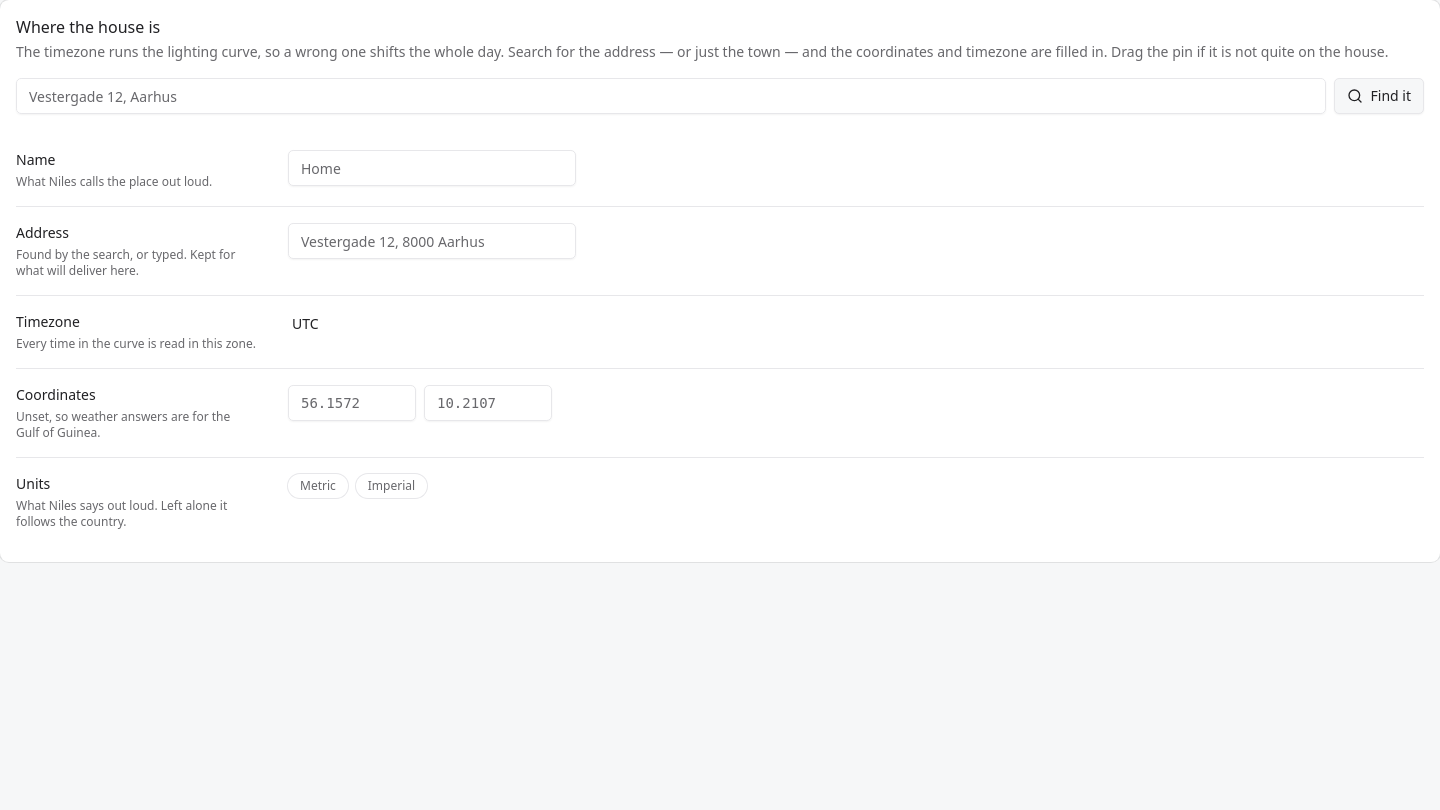
Test: HomeCard › says nothing matched rather than looking broken
In the field named "Address or town": (671, 96) [16,78,1326,114], type "Nowhereshire"
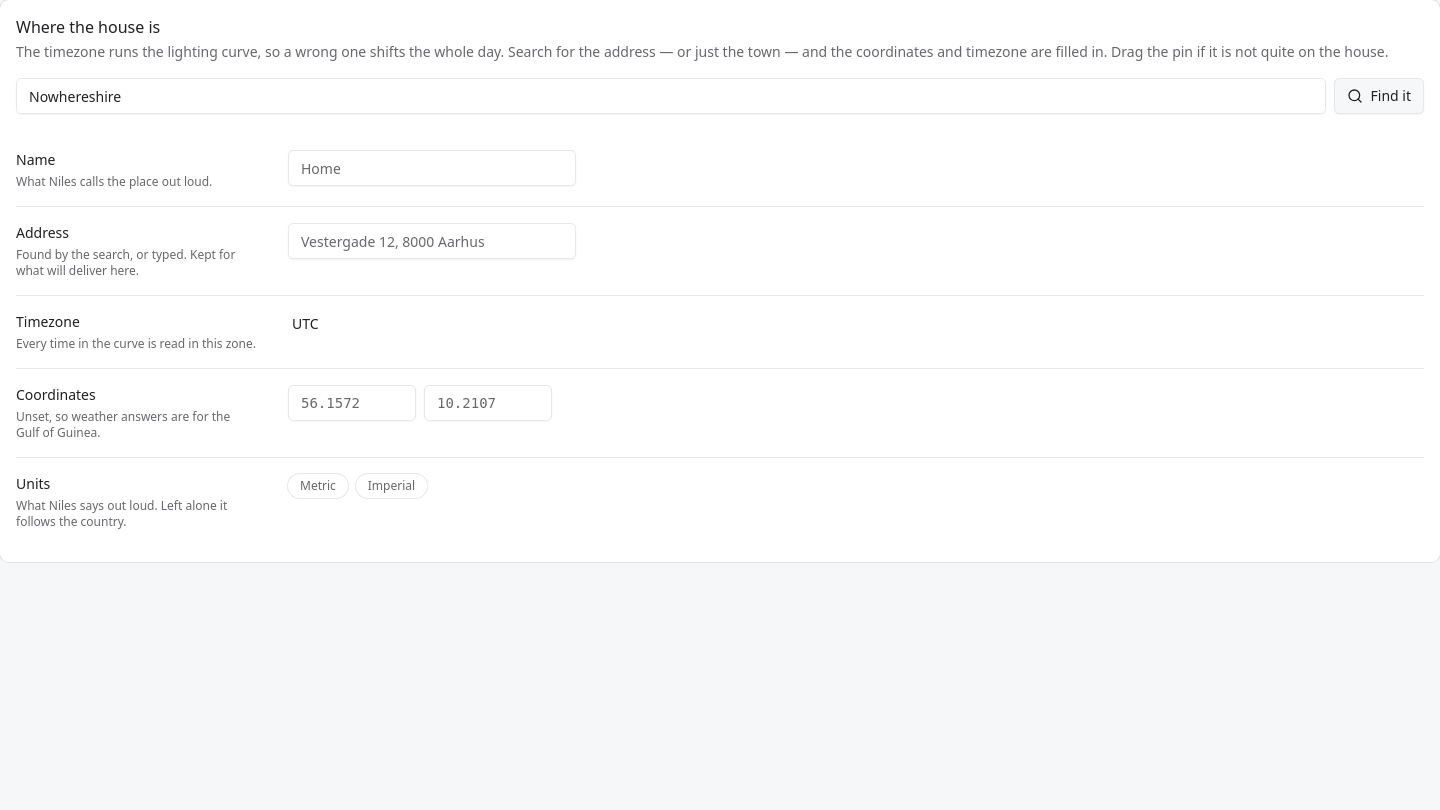
Click the button "Find it": (1379, 96) [1334,78,1424,114]
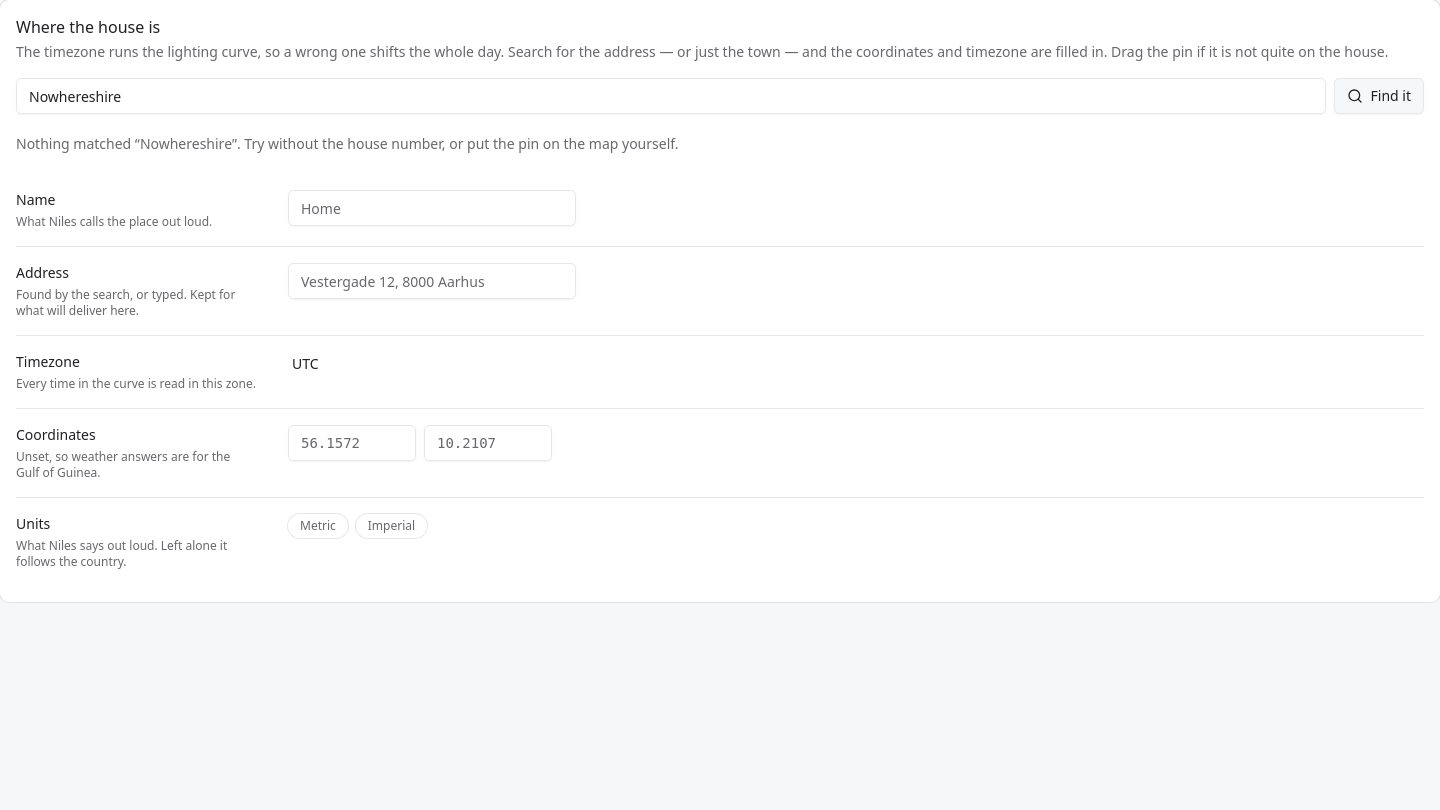
Expected: the text "Nothing matched" is shown, [16,134,140,153]
